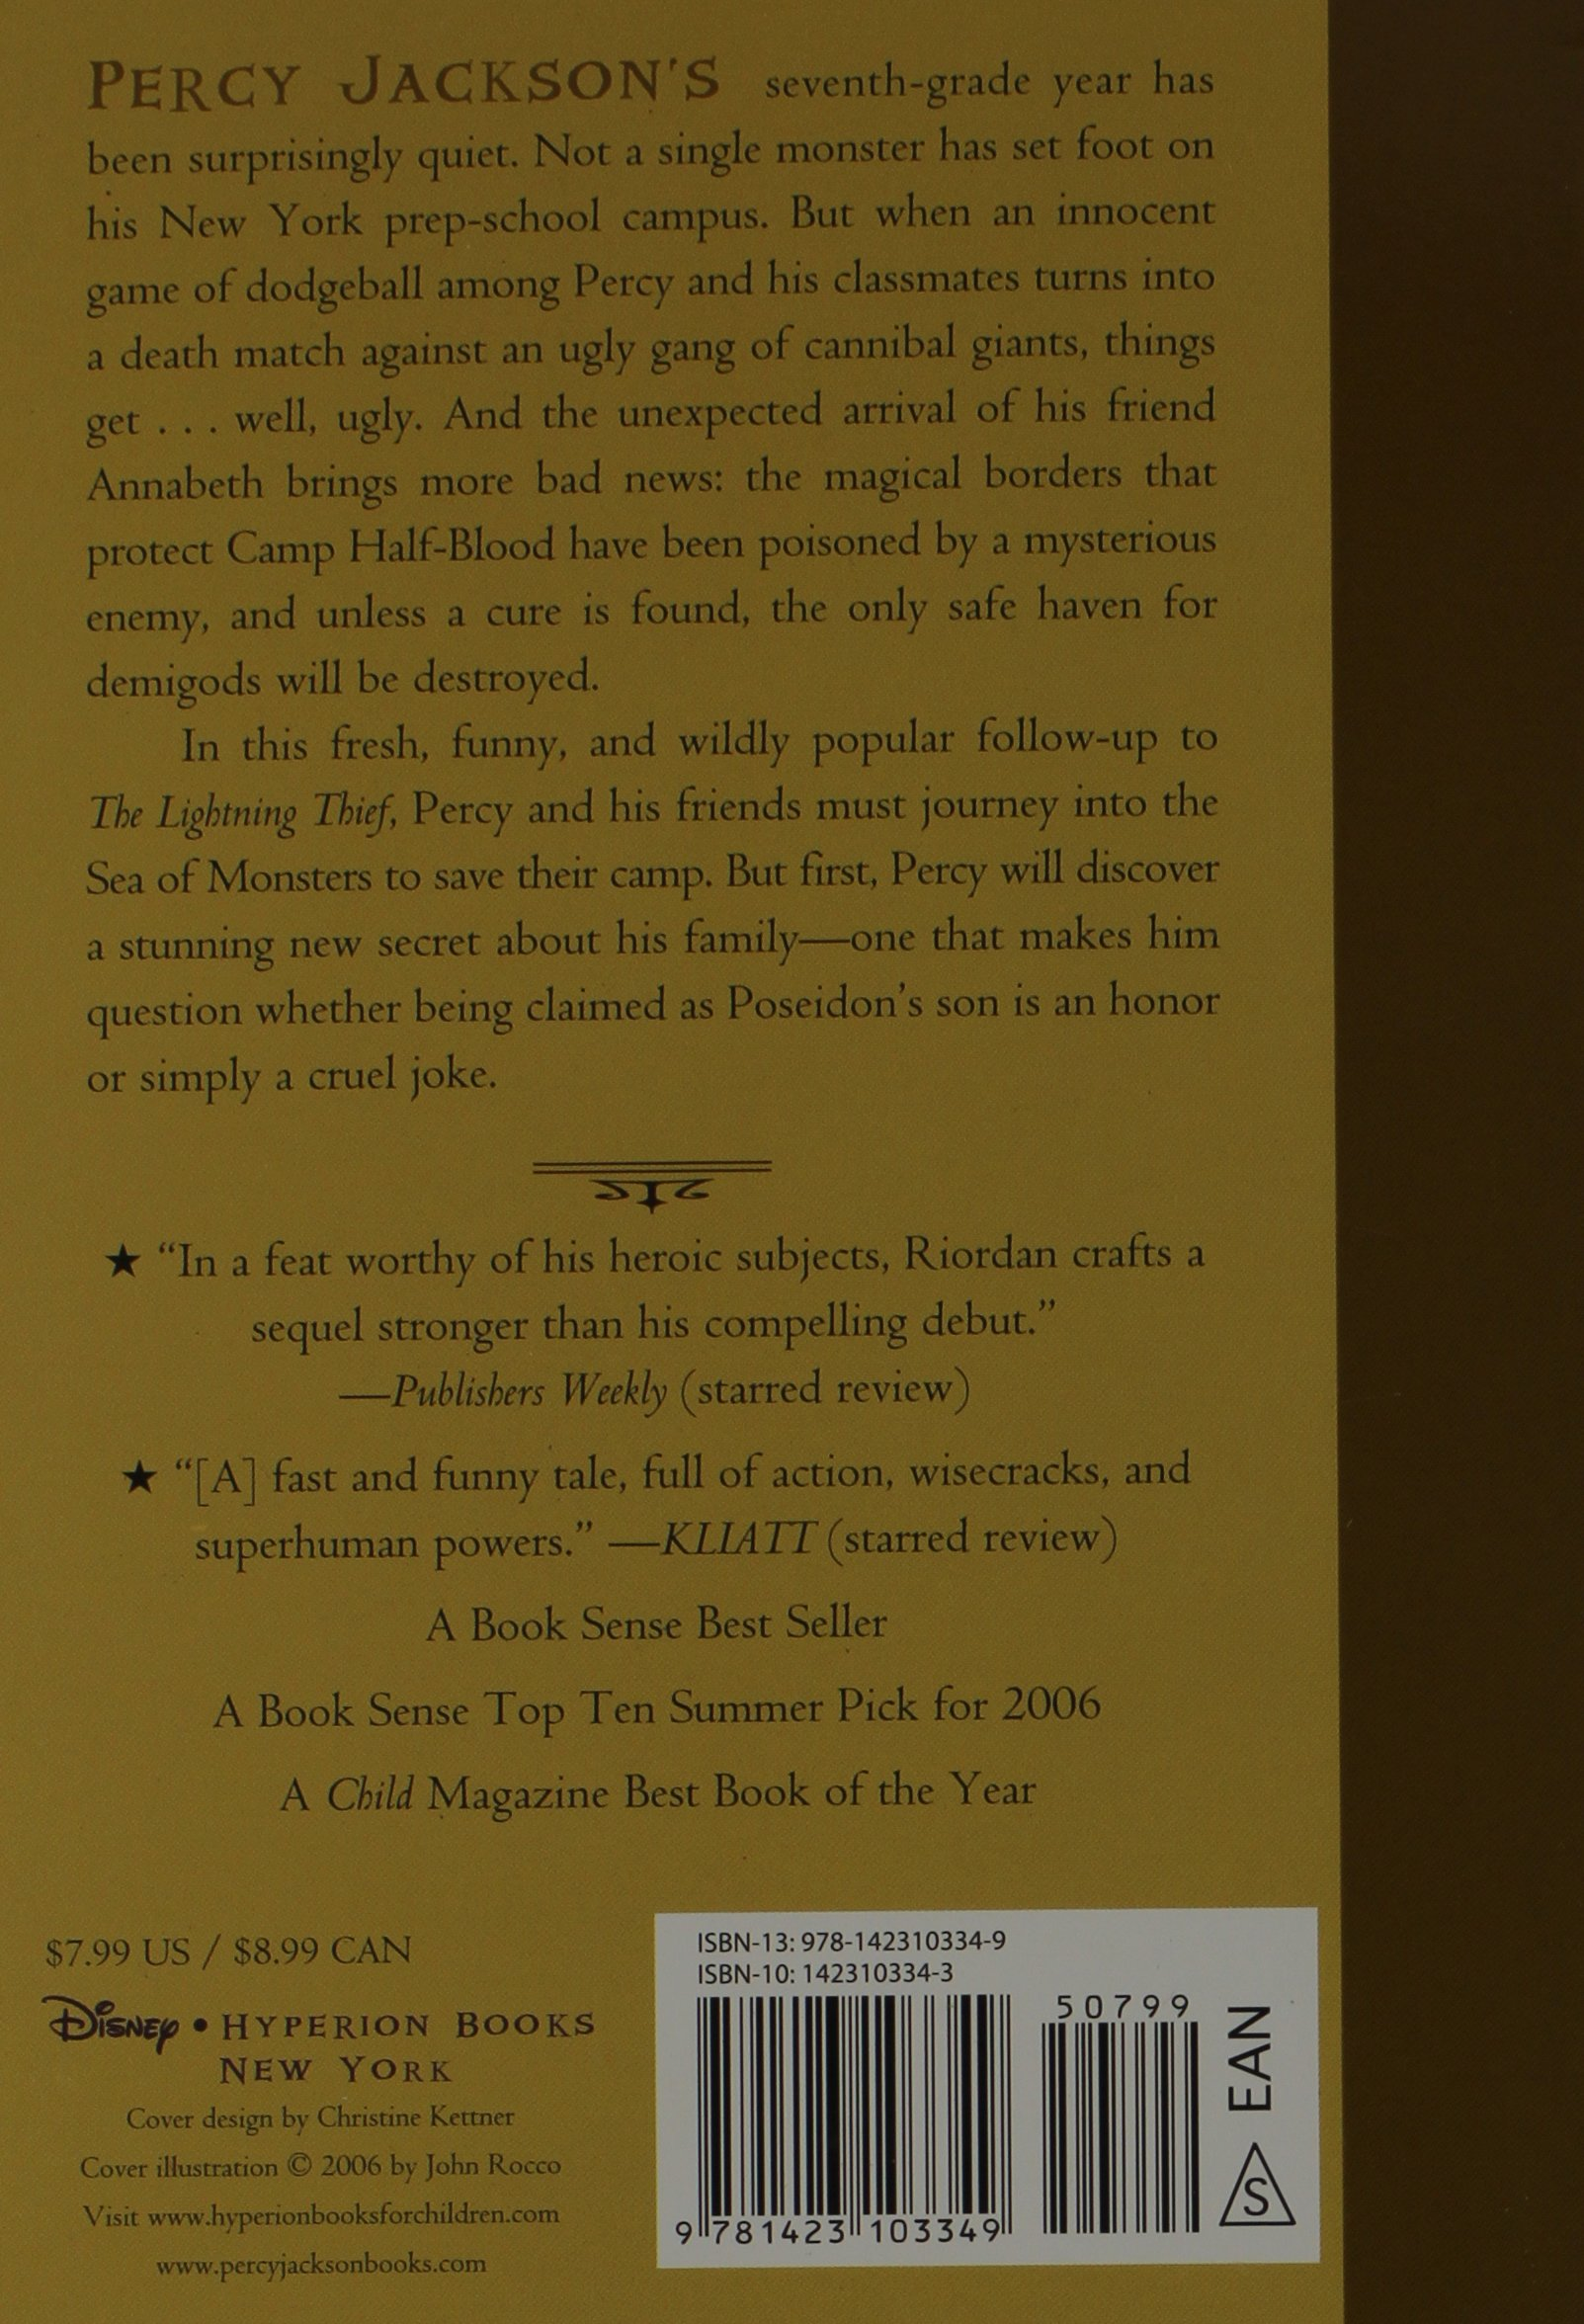barcode: (676, 1987, 1247, 2259)
